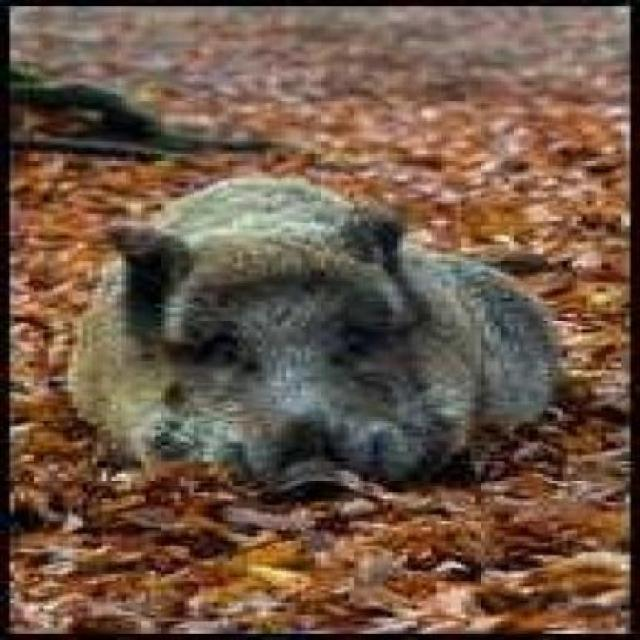pig: (94, 152, 591, 488)
